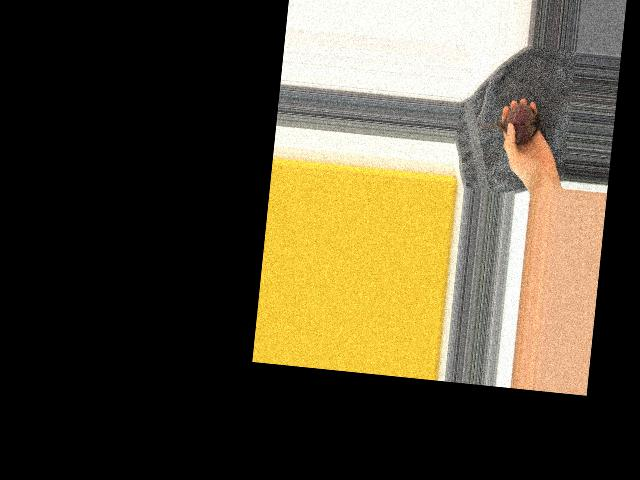beet: (472, 98, 542, 145)
